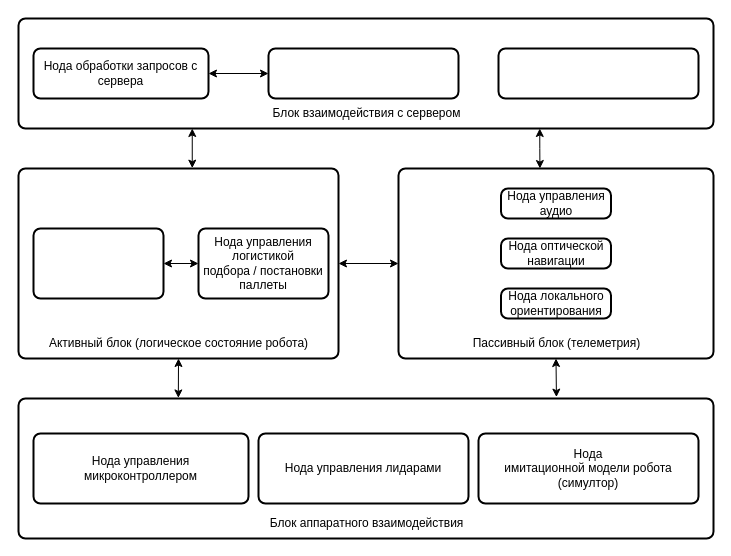
The diagram is 731 pixels wide and 556 high, and some of its shapes have lost their labels. The box of each missing label's shape, as (x1, y1, x2, y2) in pixels:
Нода управления логистикой движения: (32, 227, 164, 299)
Сервис запуска сценариев: (267, 47, 459, 99)
Средства предобработки телеметрии и логирования: (497, 47, 699, 99)
